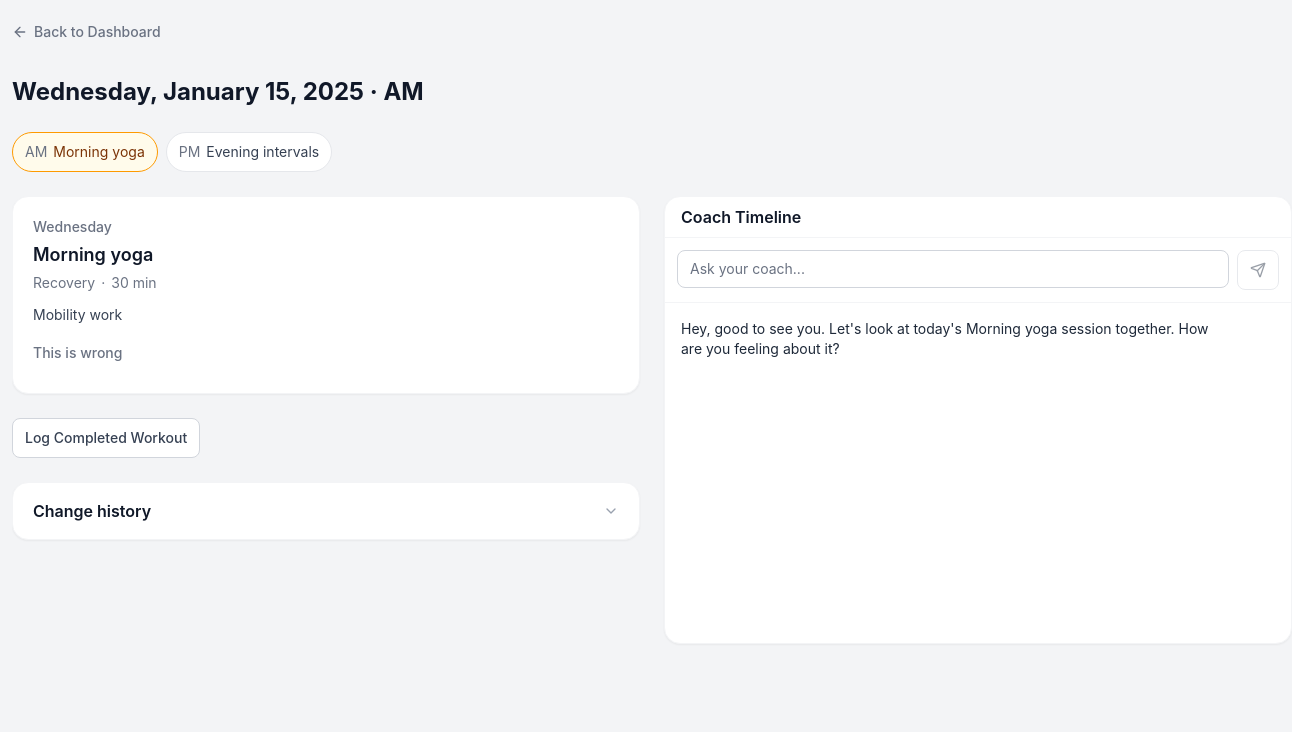
Scenario: WorkoutPage › multiple sessions per day › switches sessions when another tab is picked
Click the tab "PM Evening intervals" at (249, 152), box [166,132,332,172]
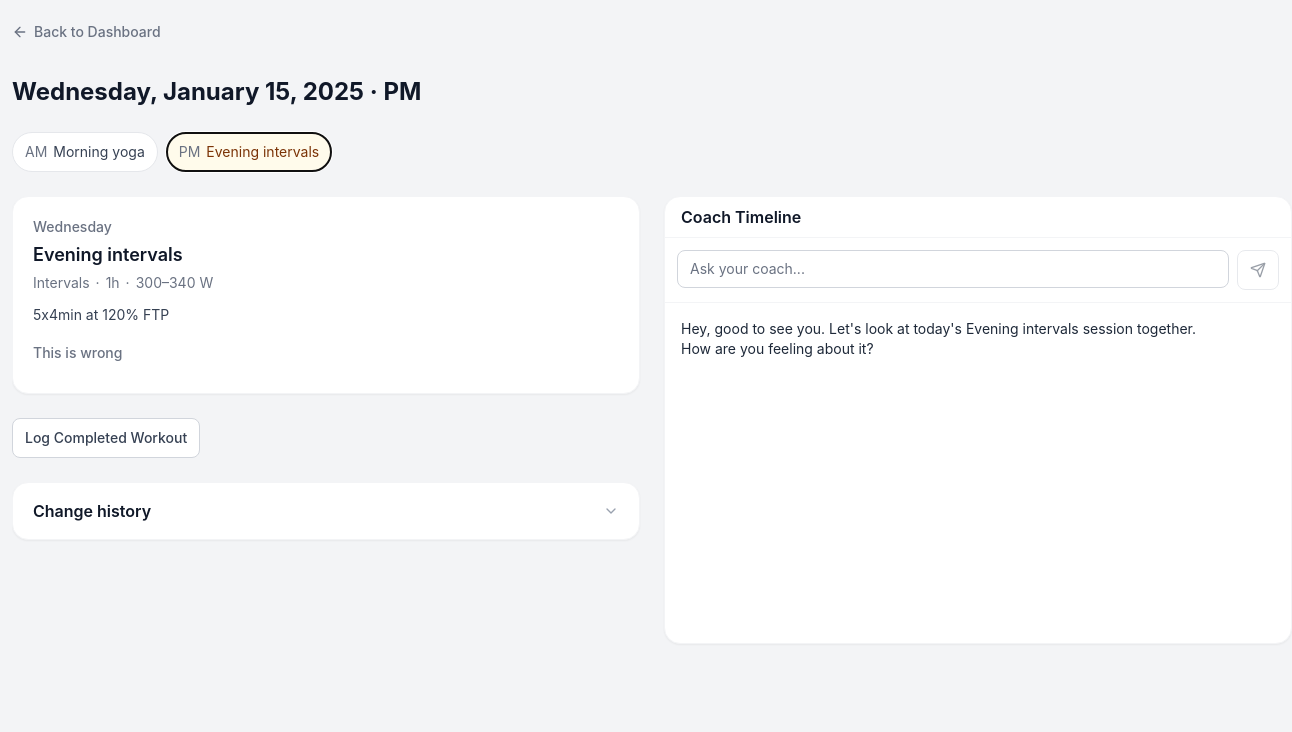
expect the heading "Evening intervals" is shown: met, box [33,244,183,265]
